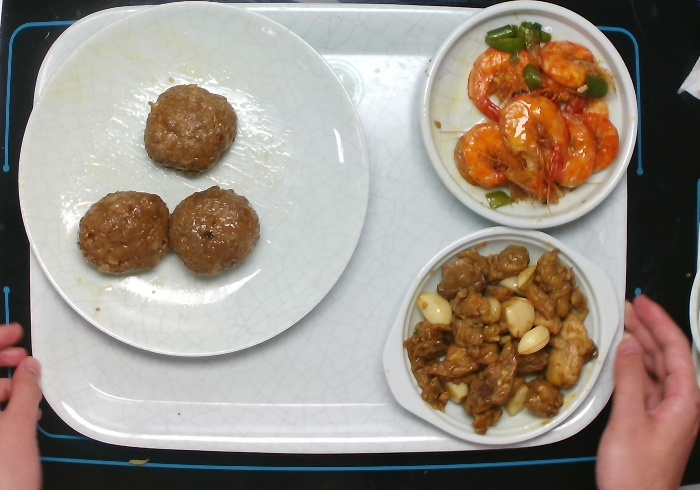JYsf-Da_Yuan_Pan: (18, 5, 370, 360)
JYsf-Shuang_Er_Pan: (381, 223, 620, 443)
JYsf-Xiao_Yuan_Pan: (415, 6, 640, 234)
